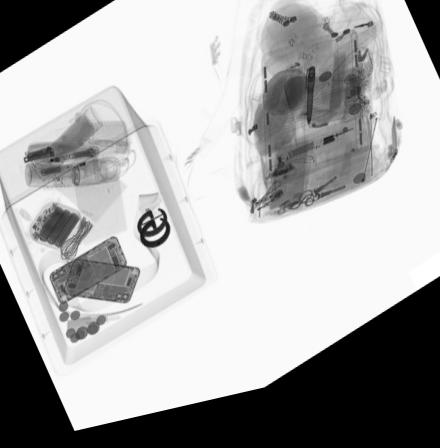Powerbank: (22, 200, 85, 253)
